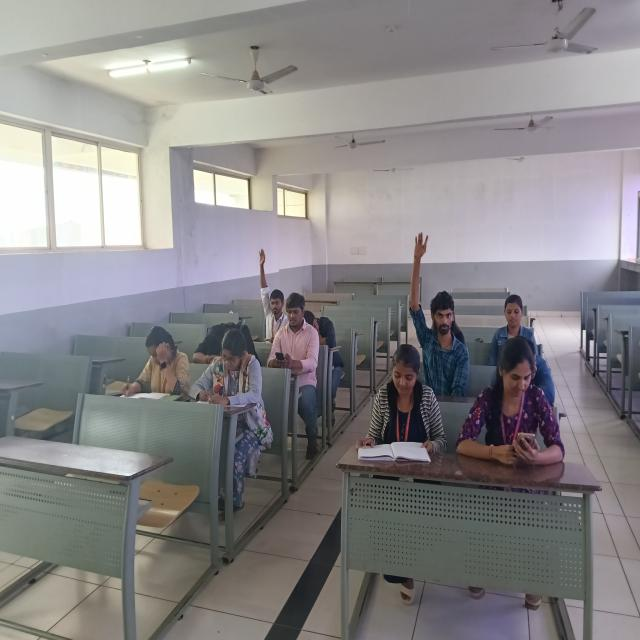Hand Rising: (402, 200, 488, 407), (252, 239, 292, 347)
Reading: (352, 329, 458, 479)
Sleeping: (191, 291, 254, 371), (299, 273, 343, 354)
Using Phone: (460, 311, 577, 482), (269, 294, 314, 386)
Writing: (199, 323, 268, 420), (124, 320, 180, 417)
